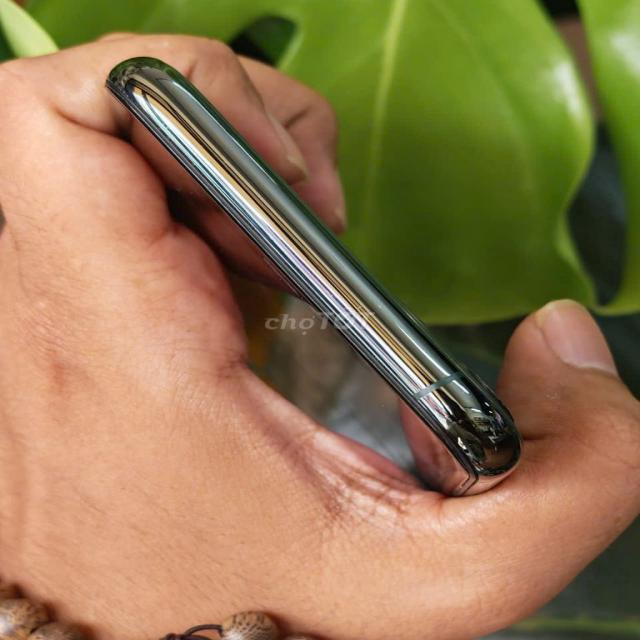gen_11: (107, 58, 521, 495)
